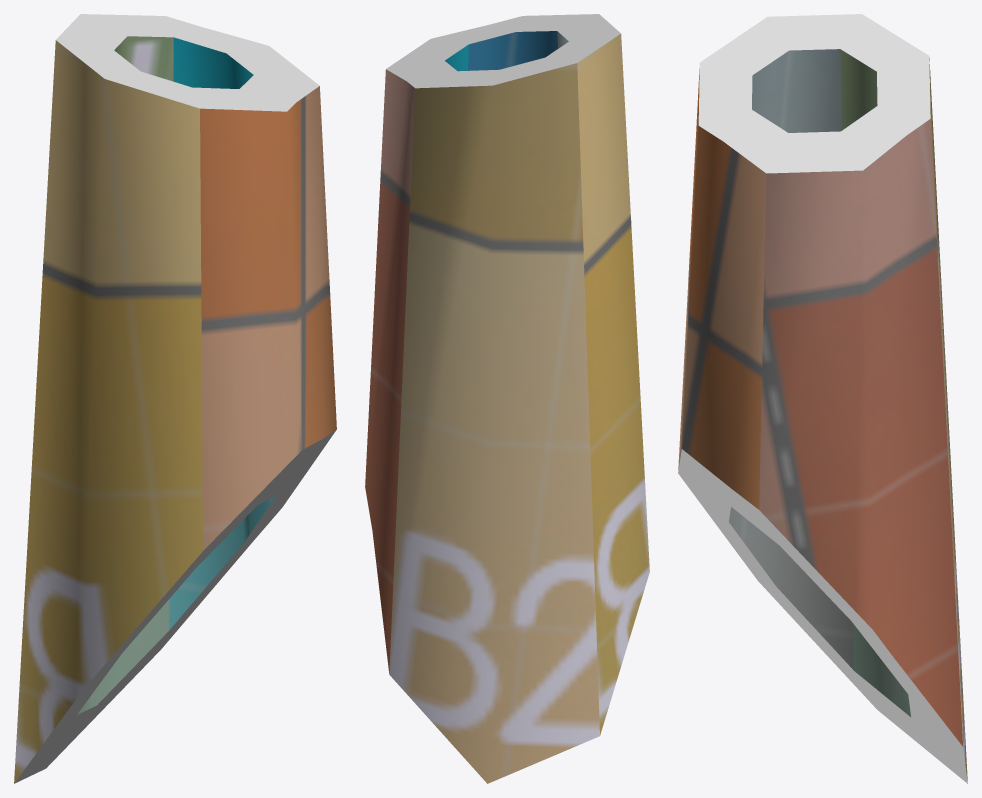
File: LongVase_SHAT_cell_012.fbx
The picture shows the model from 3 angles, left to right: view 1: azimuth 30°, elevation 25°; view 2: azimuth 150°, elevation 25°; view 3: azimuth 270°, elevation 25°; orthographic projection. The views are drawn at different scales.
Parts seen in each view (by area): view 1: LongVase_SHAT_cell_012; view 2: LongVase_SHAT_cell_012; view 3: LongVase_SHAT_cell_012.
Boxes of the visible parts, bbox=[...] form: LongVase_SHAT_cell_012: bbox=[14, 14, 336, 783]; LongVase_SHAT_cell_012: bbox=[365, 14, 649, 783]; LongVase_SHAT_cell_012: bbox=[678, 14, 967, 783].
Bounding box in the file's own units: 0.1943 × 0.5445 × 0.191.
Materials: 2 (1 with a texture image).
